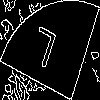L: (25, 25, 59, 79)
